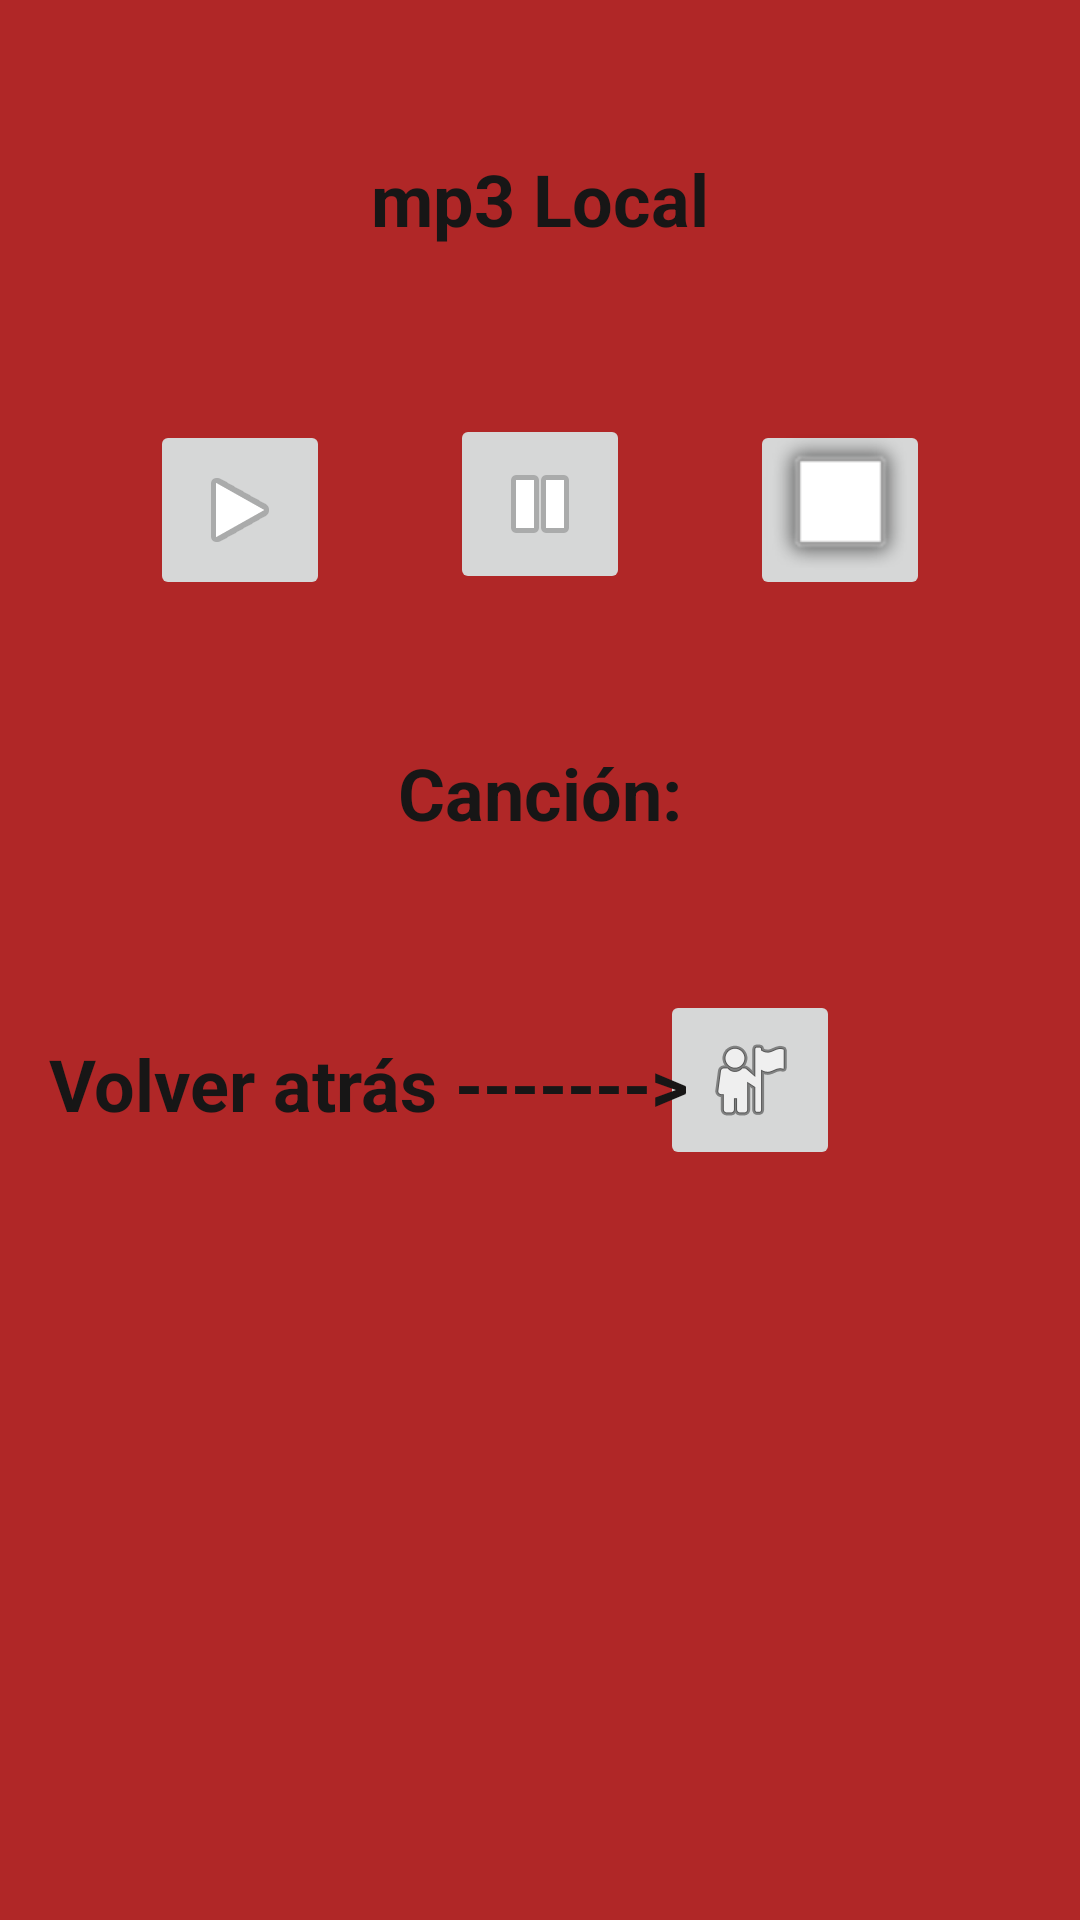

Locate icon controls on the screen. Image size 1080*1920, boxes as (x1, y1, x2, y2).
myplaces: (660, 1008, 828, 1152)
pause: (462, 432, 618, 576)
play: (162, 438, 318, 582)
